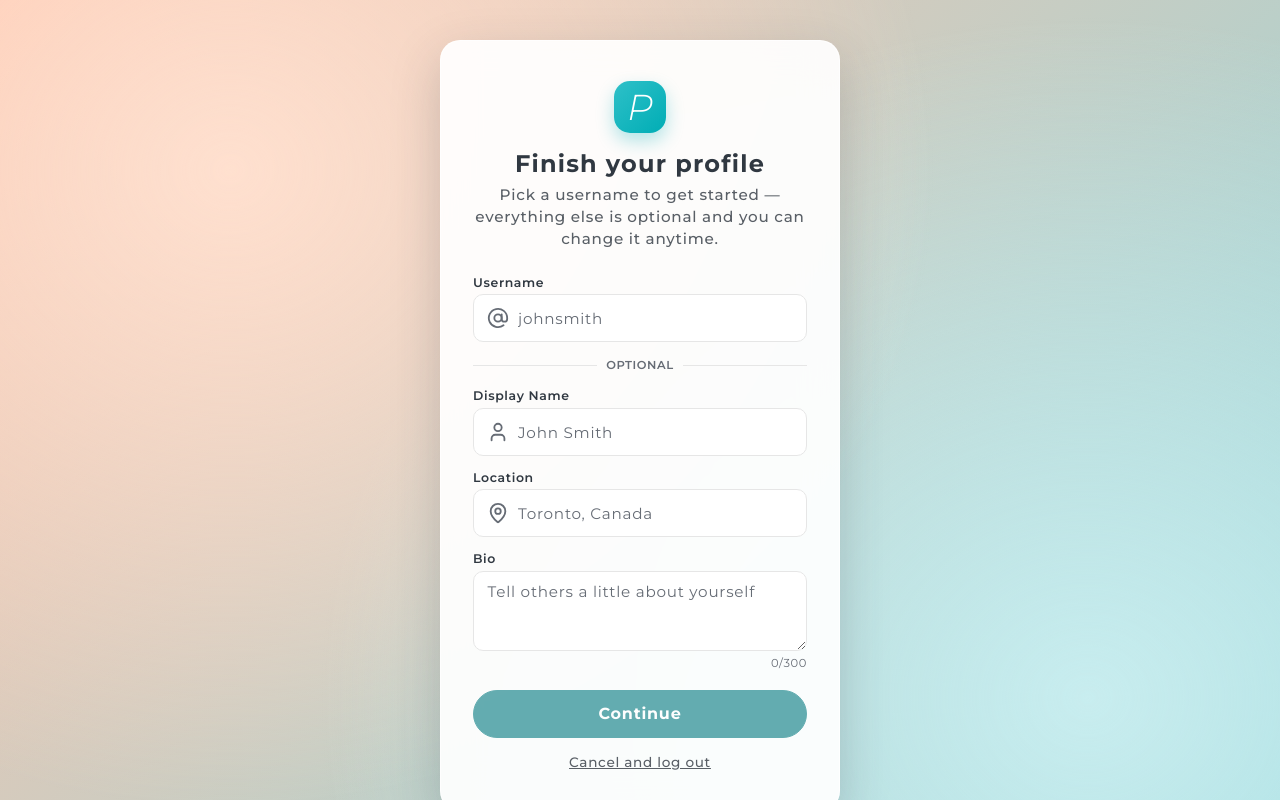
Test case: CreateUsername (onboarding) › surfaces the server reason inline and re-enables Continue when the save is rejected
Expected: the heading "Finish your profile" is shown, [515,149,765,178]
Type "validuser" into the field labelled "Username" at point(640, 318), box [473,294,807,342]
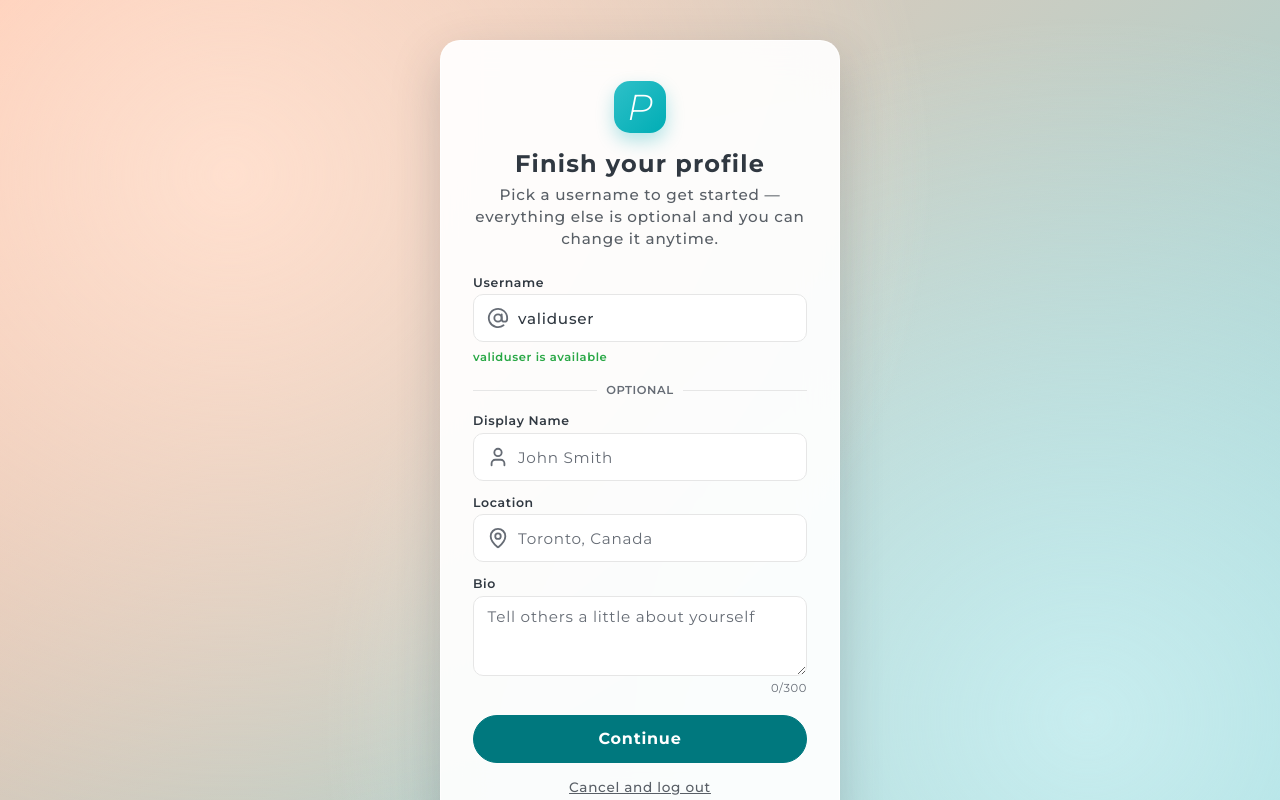
Expected: the button "Continue" is enabled
Click the button "Continue" at point(640, 739), box [473,715,807,763]
(page scrolled)
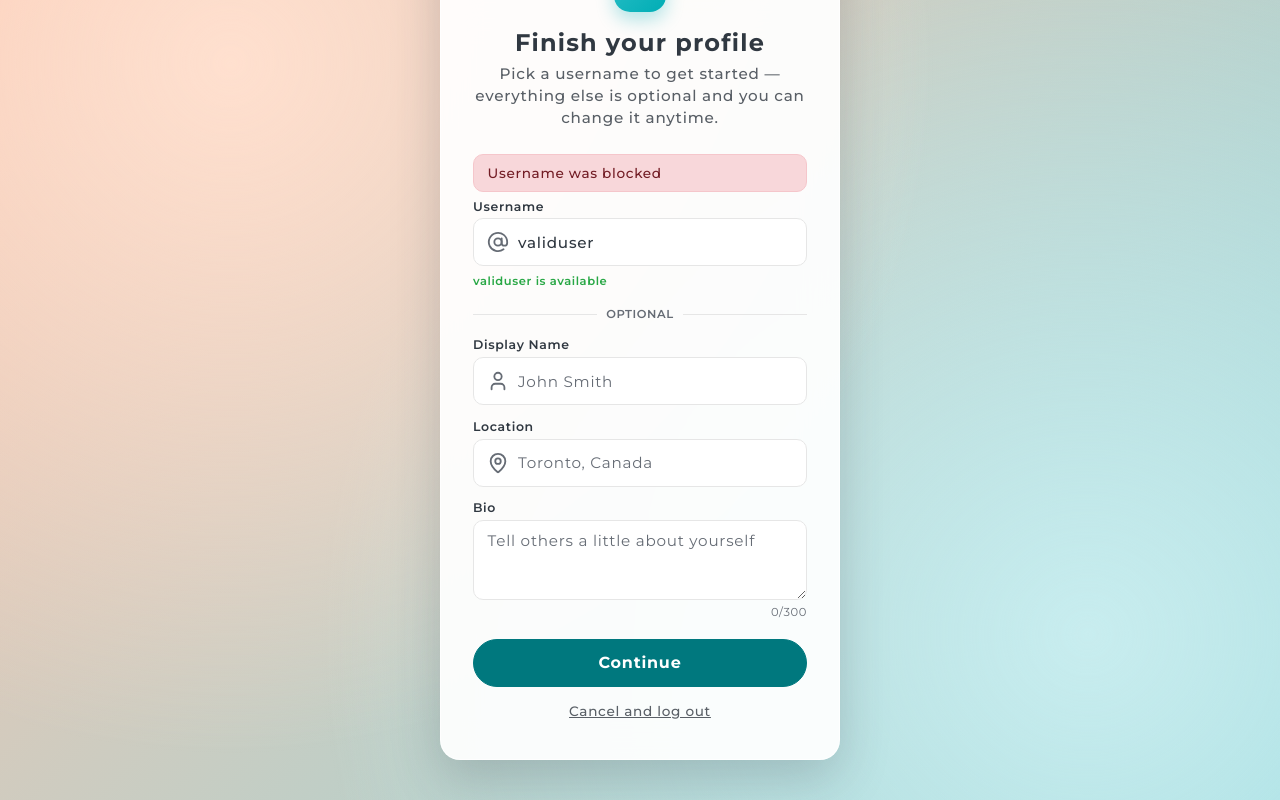
Expected: the button "Continue" is enabled, [473,639,807,687]
Expected: the text "Username was blocked" is shown, [473,154,807,192]
